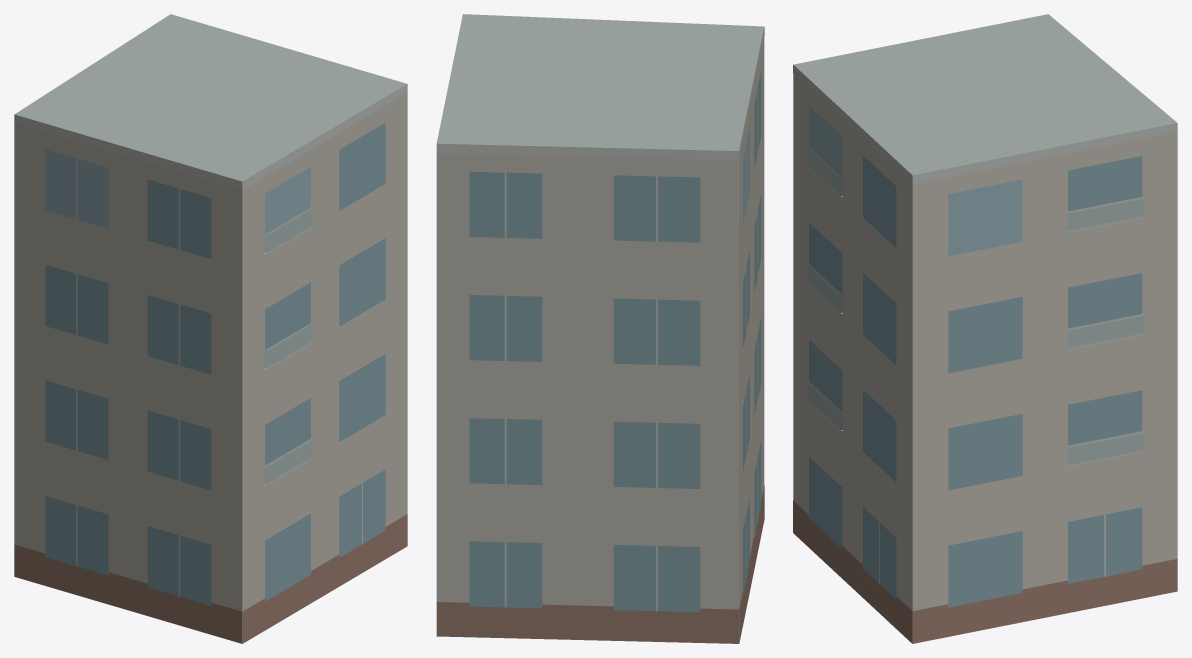
Rendered from survey-upis-32807015.glb.
3 renders of one model, left to right at view 1: azimuth 30°, elevation 25°; view 2: azimuth 150°, elevation 25°; view 3: azimuth 270°, elevation 25°, orthographic. The views are drawn at different scales.
Parts seen in each view (by area): view 1: survey-upis-32807015.tmp; view 2: survey-upis-32807015.tmp; view 3: survey-upis-32807015.tmp.
Part boxes in pixels (left/top/right/bottom): survey-upis-32807015.tmp: left=14, top=14, right=407, bottom=643; survey-upis-32807015.tmp: left=436, top=14, right=764, bottom=643; survey-upis-32807015.tmp: left=793, top=14, right=1177, bottom=643.
Bounding box in the file's own units: 9.46 × 12.8 × 9.52.
